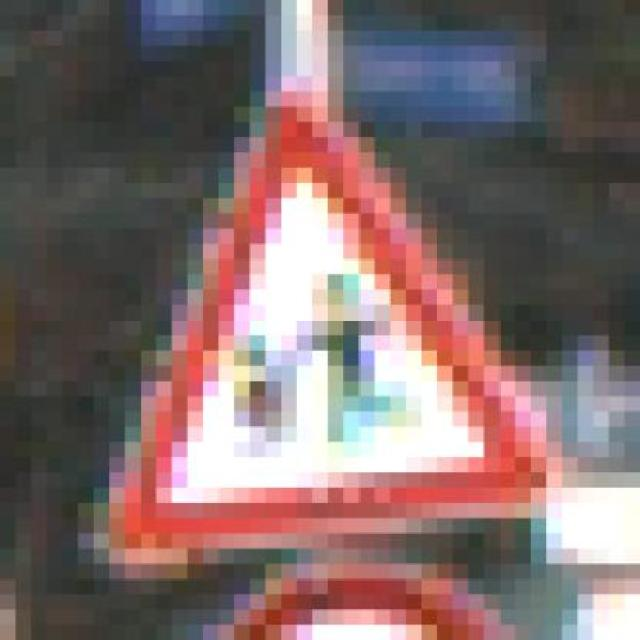Beware of children: (78, 76, 578, 564)
